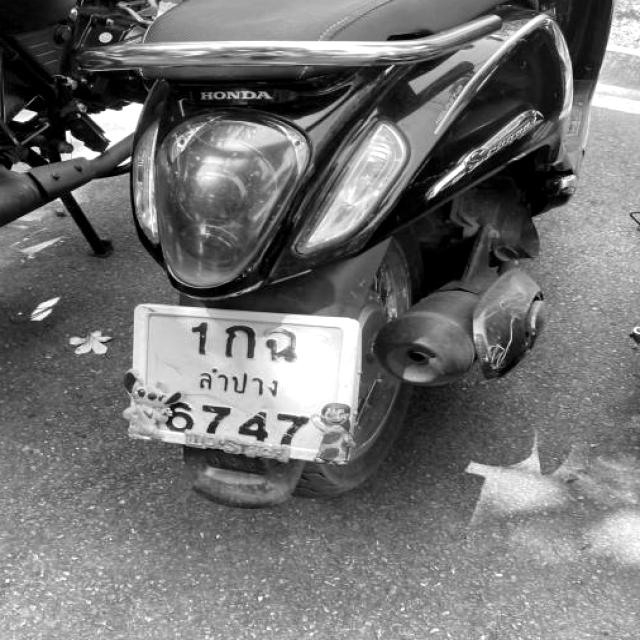letters: (217, 315, 260, 358), (266, 326, 298, 364), (162, 399, 193, 436), (187, 318, 214, 359), (201, 399, 230, 437), (247, 407, 274, 443), (284, 412, 304, 446)
license-plate: (132, 309, 352, 460)
province: (195, 362, 288, 403)
